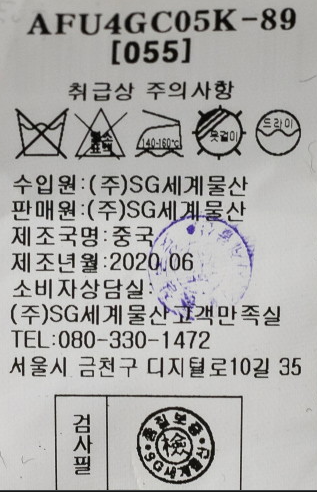KR_dry_clean: (251, 106, 306, 160)
KR_hang_dry_in_shade: (192, 106, 248, 161)
KR_iron_medium_temp_with_cloth: (132, 103, 187, 162)
KR_no_chlorine_bleach: (70, 106, 126, 161)
KR_no_wash: (12, 102, 68, 162)
